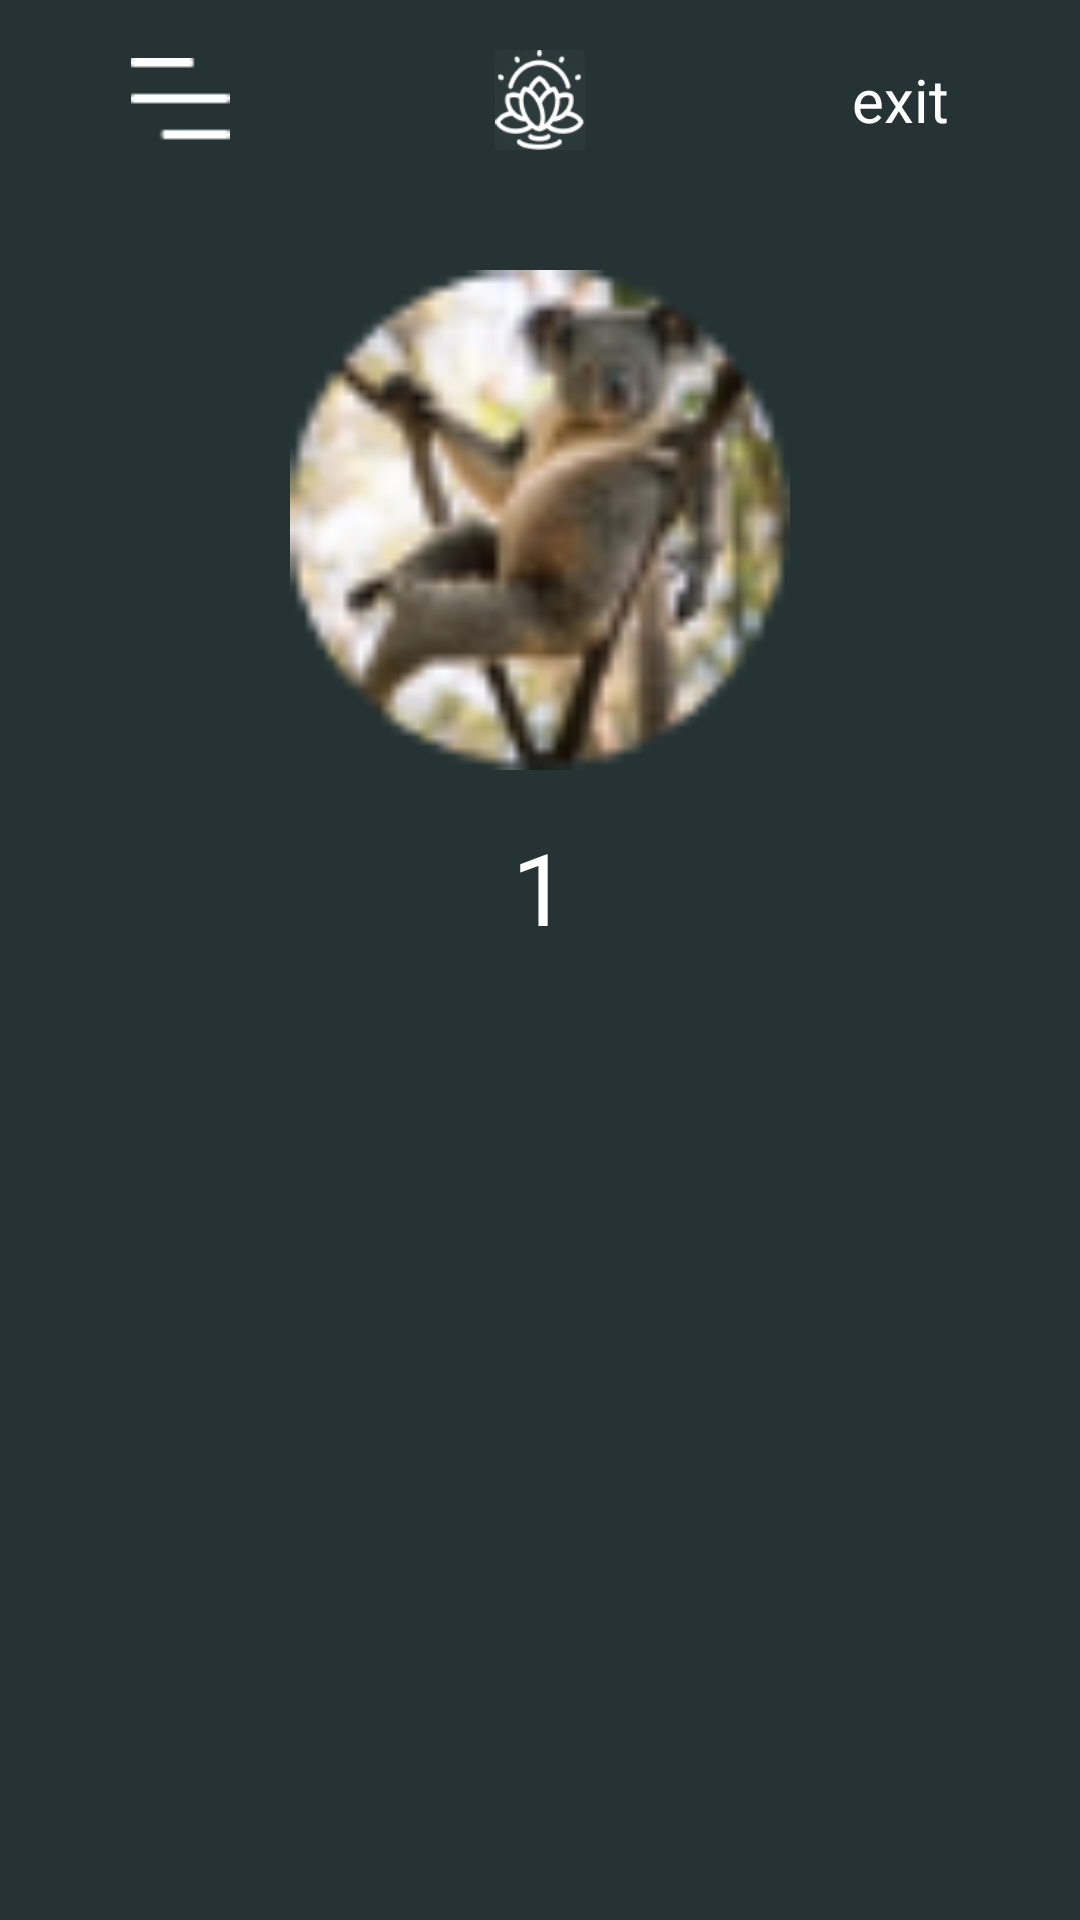

Named icons in this screenshot (1080*1920) and their bounding boxes, [x1, y1, x2, y2]:
hamburger: [131, 58, 230, 140]
